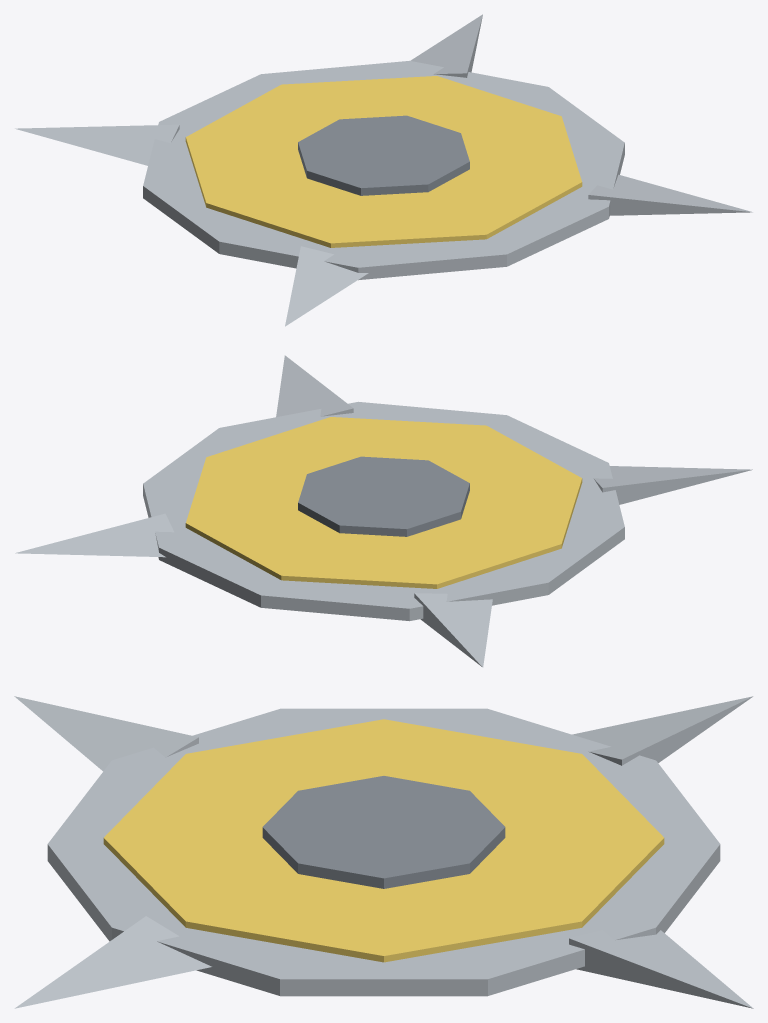
The model's file is WP_EvoChakram.fbx.
The picture shows the model from 3 angles, top to bottom: view 1: azimuth 30°, elevation 25°; view 2: azimuth 150°, elevation 25°; view 3: azimuth 270°, elevation 25°; orthographic projection. The views are drawn at different scales.
Visible parts, largest first — view 1: WP_EvoChakram; view 2: WP_EvoChakram; view 3: WP_EvoChakram.
Part boxes in pixels (x1,y1,x2,y2): WP_EvoChakram: [15, 14, 752, 326]; WP_EvoChakram: [15, 355, 752, 667]; WP_EvoChakram: [14, 696, 753, 1008].
Bounding box in the file's own units: 0.792 × 0.792 × 0.09.
